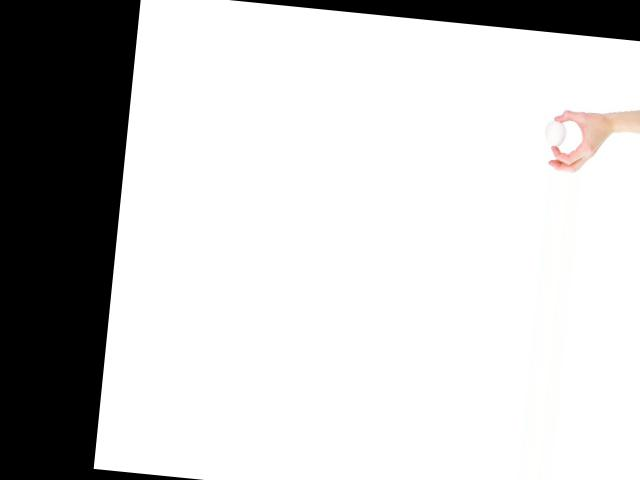egg: (543, 119, 567, 147)
